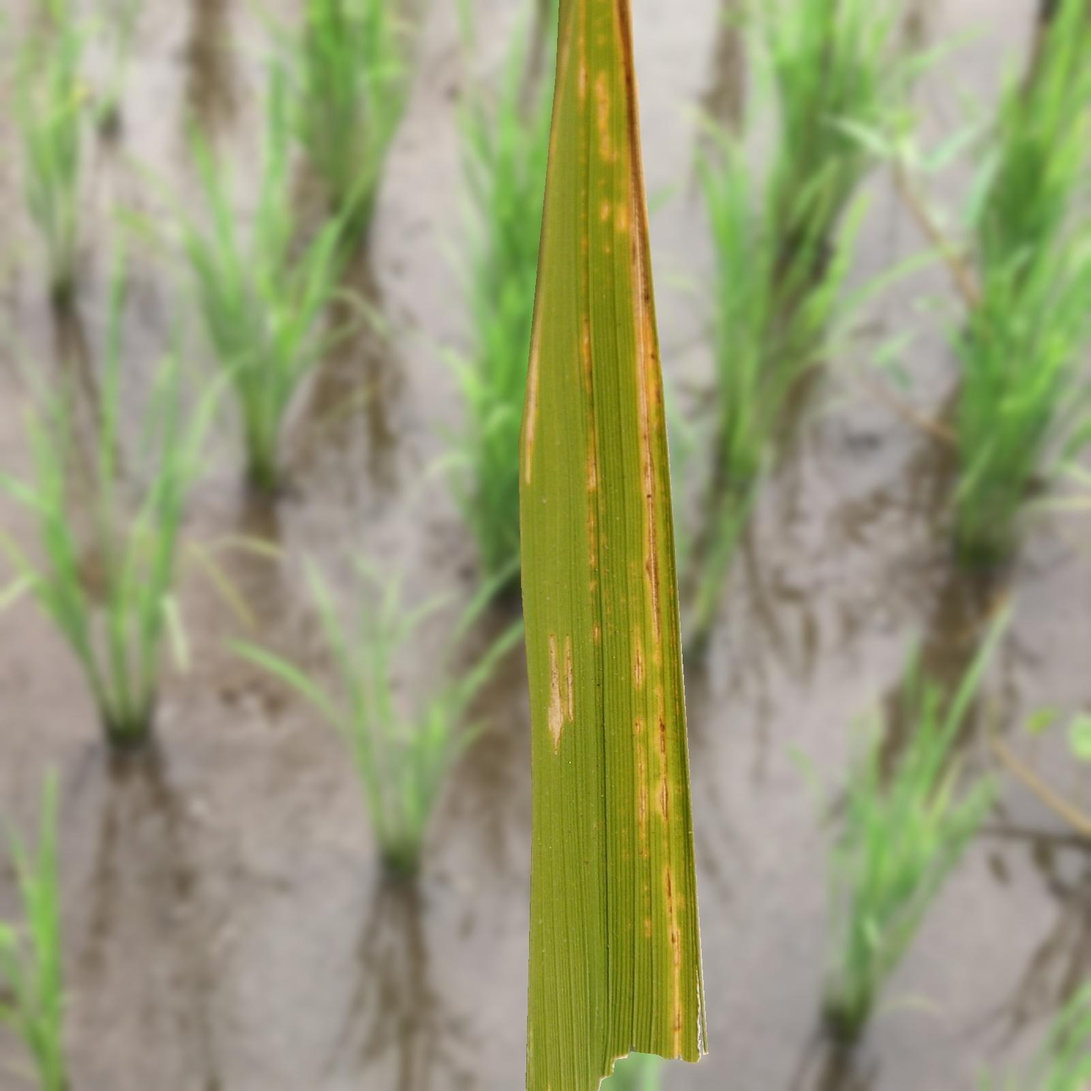BLS: (608, 1, 663, 668), (521, 246, 551, 488), (651, 681, 673, 821), (595, 71, 619, 163), (547, 633, 564, 756), (634, 744, 648, 840), (578, 1, 589, 117), (632, 622, 647, 690), (564, 638, 574, 724)
LEAF: (519, 0, 708, 1090)
